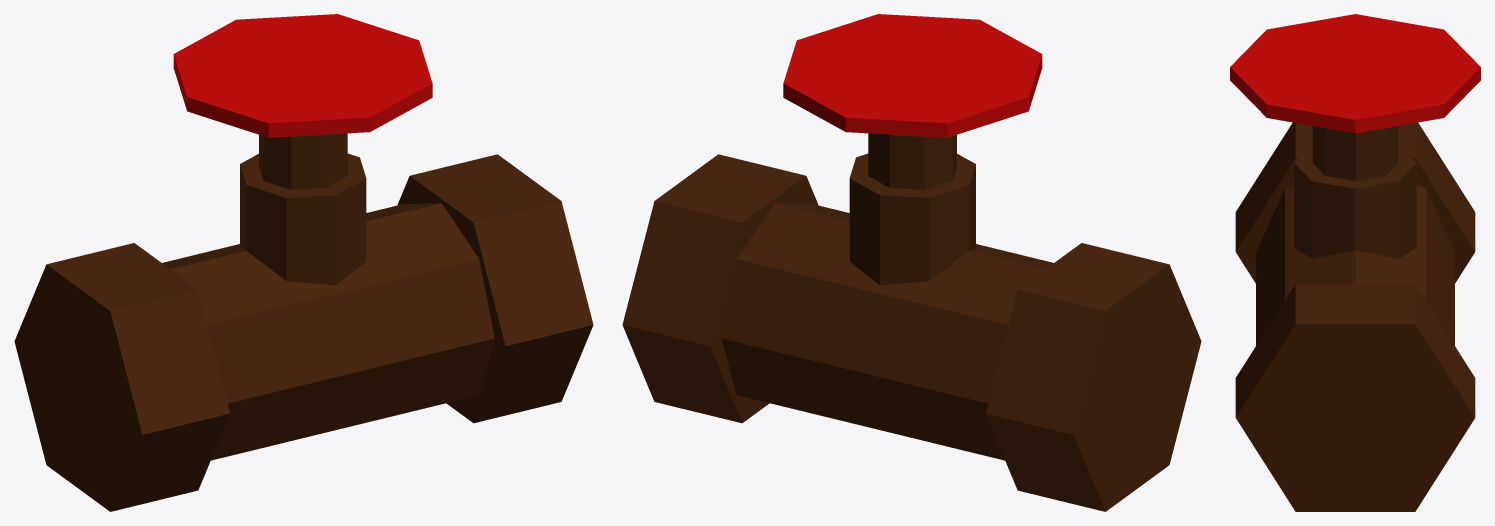
File: treelow.obj
3 renders of one model, left to right at view 1: azimuth 30°, elevation 25°; view 2: azimuth 150°, elevation 25°; view 3: azimuth 270°, elevation 25°, orthographic. The views are drawn at different scales.
Parts seen in each view (by area): view 1: Cylinder.003, HandleLow; view 2: Cylinder.003, HandleLow; view 3: Cylinder.003, HandleLow.
Boxes of the visible parts, x1,y1,x2,y2 form: Cylinder.003: (14, 133, 593, 511); HandleLow: (173, 14, 432, 137); Cylinder.003: (622, 133, 1201, 511); HandleLow: (783, 14, 1042, 137); Cylinder.003: (1235, 122, 1475, 511); HandleLow: (1230, 14, 1480, 133).
Size of the model in its own units: 4.9 by 3.79 by 2.52.
